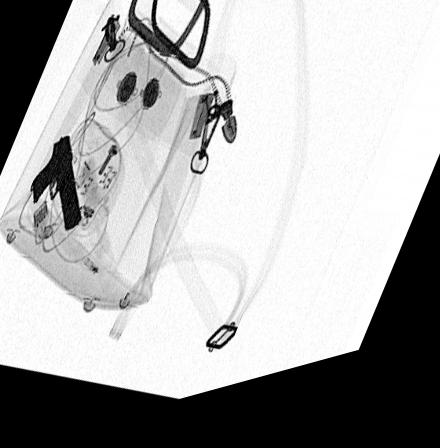Gun: (33, 140, 84, 234)
